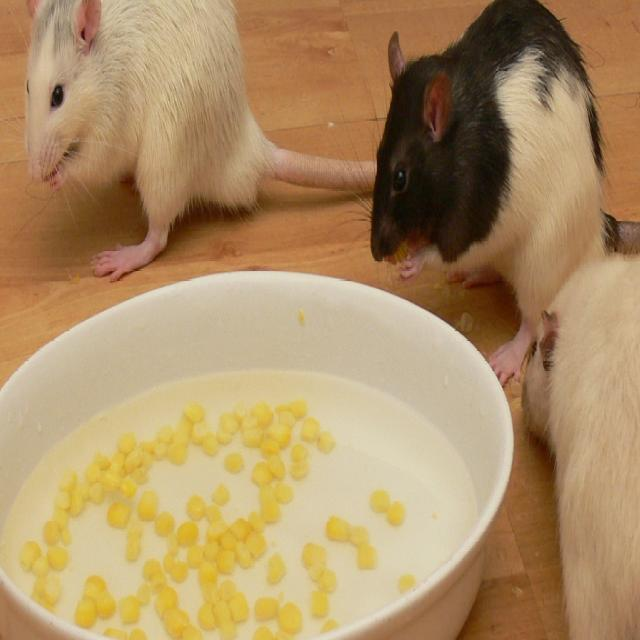rat: (368, 0, 640, 389), (21, 0, 378, 282), (519, 252, 640, 638)
